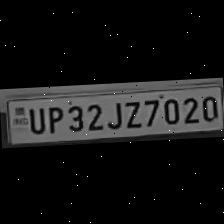0: (158, 94, 180, 124), (197, 91, 217, 121)
2: (82, 99, 104, 131), (178, 92, 200, 124)
3: (62, 100, 84, 132)
7: (139, 94, 159, 126)
J: (103, 97, 123, 129)
P: (42, 101, 64, 133)
U: (23, 102, 44, 134)
Z: (120, 96, 142, 128)
